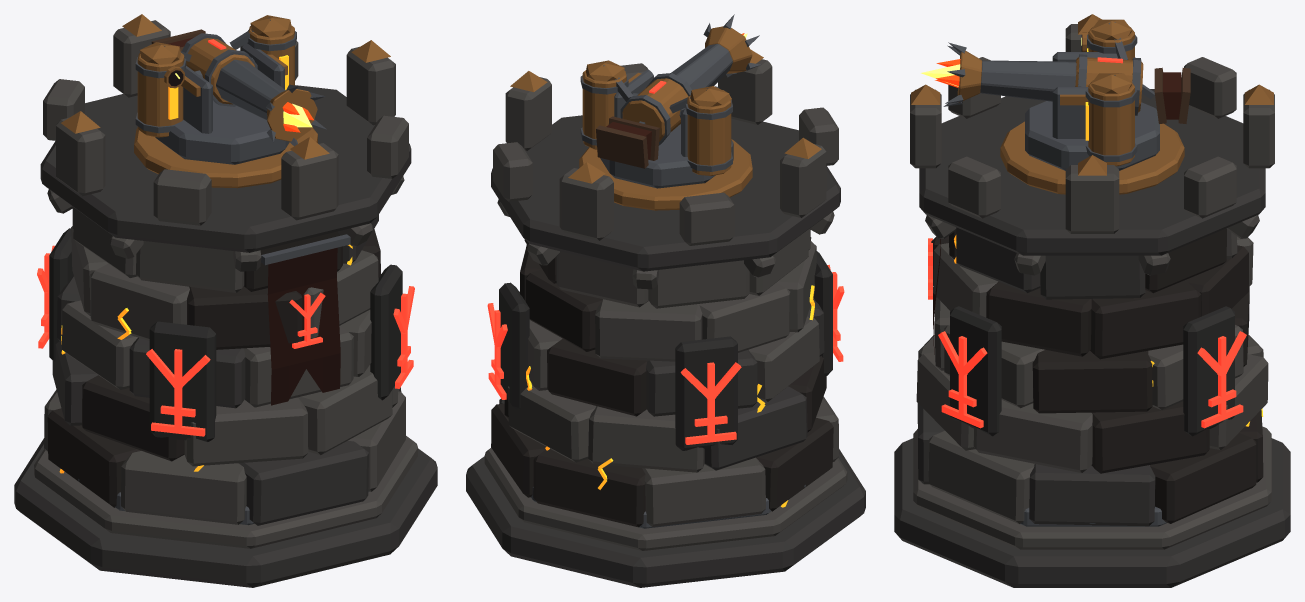
The model's file is fire_tower_lvl3.glb.
3 views of the same model, side by side, from view 1: azimuth 30°, elevation 25°; view 2: azimuth 150°, elevation 25°; view 3: azimuth 270°, elevation 25° (orthographic). The views are drawn at different scales.
Parts seen in each view (by area): view 1: Platform, Plinth, Plinth_Step, Banner, Block_0_6, Block_0_5, Block_1_5, RuneStone_3, Block_3_5, Block_3_4, Turret_Base, Block_1_6 (+35 smaller); view 2: Platform, Plinth, Plinth_Step, Block_0_3, Block_0_2, Block_3_2, Block_1_2, Block_2_2, RuneStone_2, Block_1_3, Block_1_1, Block_3_3 (+35 smaller); view 3: Platform, Plinth, Plinth_Step, Block_0_0, Block_2_0, Block_3_0, Block_1_0, Block_1_7, Block_0_7, Block_0_1, Block_3_7, RuneStone_1 (+37 smaller).
Part boxes in pixels (x1=…): Platform: x1=40, y1=85, x2=411, y2=252; Plinth: x1=14, y1=438, x2=437, y2=587; Plinth_Step: x1=34, y1=436, x2=417, y2=548; Banner: x1=267, y1=247, x2=340, y2=405; Block_0_6: x1=238, y1=440, x2=368, y2=525; Block_0_5: x1=121, y1=451, x2=246, y2=524; Block_1_5: x1=184, y1=397, x2=308, y2=466; RuneStone_3: x1=149, y1=321, x2=216, y2=441; Block_3_5: x1=187, y1=286, x2=302, y2=349; Block_3_4: x1=90, y1=263, x2=189, y2=340; Turret_Base: x1=155, y1=100, x2=289, y2=164; Block_1_6: x1=297, y1=364, x2=392, y2=454; Platform: x1=491, y1=115, x2=840, y2=271; Plinth: x1=466, y1=449, x2=865, y2=587; Plinth_Step: x1=484, y1=448, x2=847, y2=550; Block_0_3: x1=642, y1=457, x2=765, y2=526; Block_0_2: x1=533, y1=449, x2=645, y2=527; Block_3_2: x1=595, y1=299, x2=702, y2=361; Block_1_2: x1=588, y1=406, x2=704, y2=472; Block_2_2: x1=547, y1=338, x2=647, y2=416; RuneStone_2: x1=675, y1=336, x2=737, y2=450; Block_1_3: x1=704, y1=386, x2=807, y2=470; Block_1_1: x1=508, y1=383, x2=595, y2=462; Block_3_3: x1=699, y1=282, x2=790, y2=352; Platform: x1=919, y1=89, x2=1265, y2=255; Plinth: x1=894, y1=438, x2=1290, y2=587; Plinth_Step: x1=913, y1=426, x2=1271, y2=549; Block_0_0: x1=1029, y1=464, x2=1155, y2=526; Block_2_0: x1=1032, y1=350, x2=1152, y2=413; Block_3_0: x1=1090, y1=280, x2=1201, y2=359; Block_1_0: x1=1091, y1=401, x2=1209, y2=473; Block_1_7: x1=973, y1=400, x2=1092, y2=472; Block_0_7: x1=928, y1=431, x2=1034, y2=523; Block_0_1: x1=1150, y1=433, x2=1256, y2=523; Block_3_7: x1=986, y1=281, x2=1091, y2=356; RuneStone_1: x1=1183, y1=306, x2=1234, y2=436.
Bounding box in the file's own units: 2.49 × 3.23 × 2.49.
